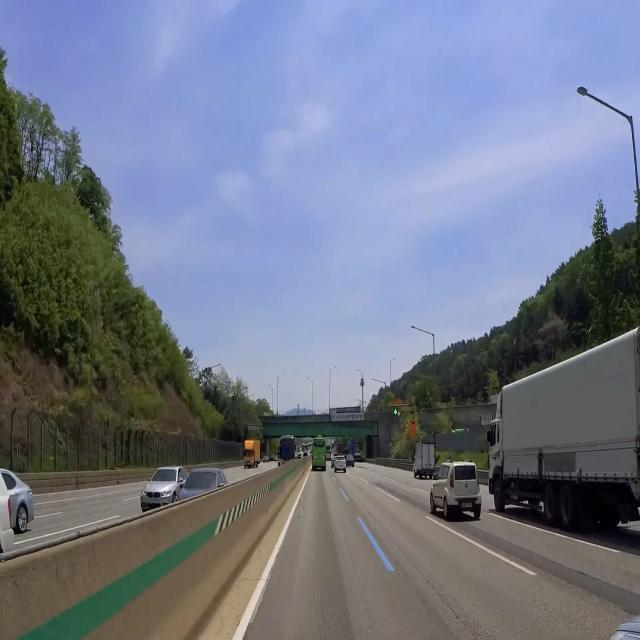car: (460, 500, 476, 510)
